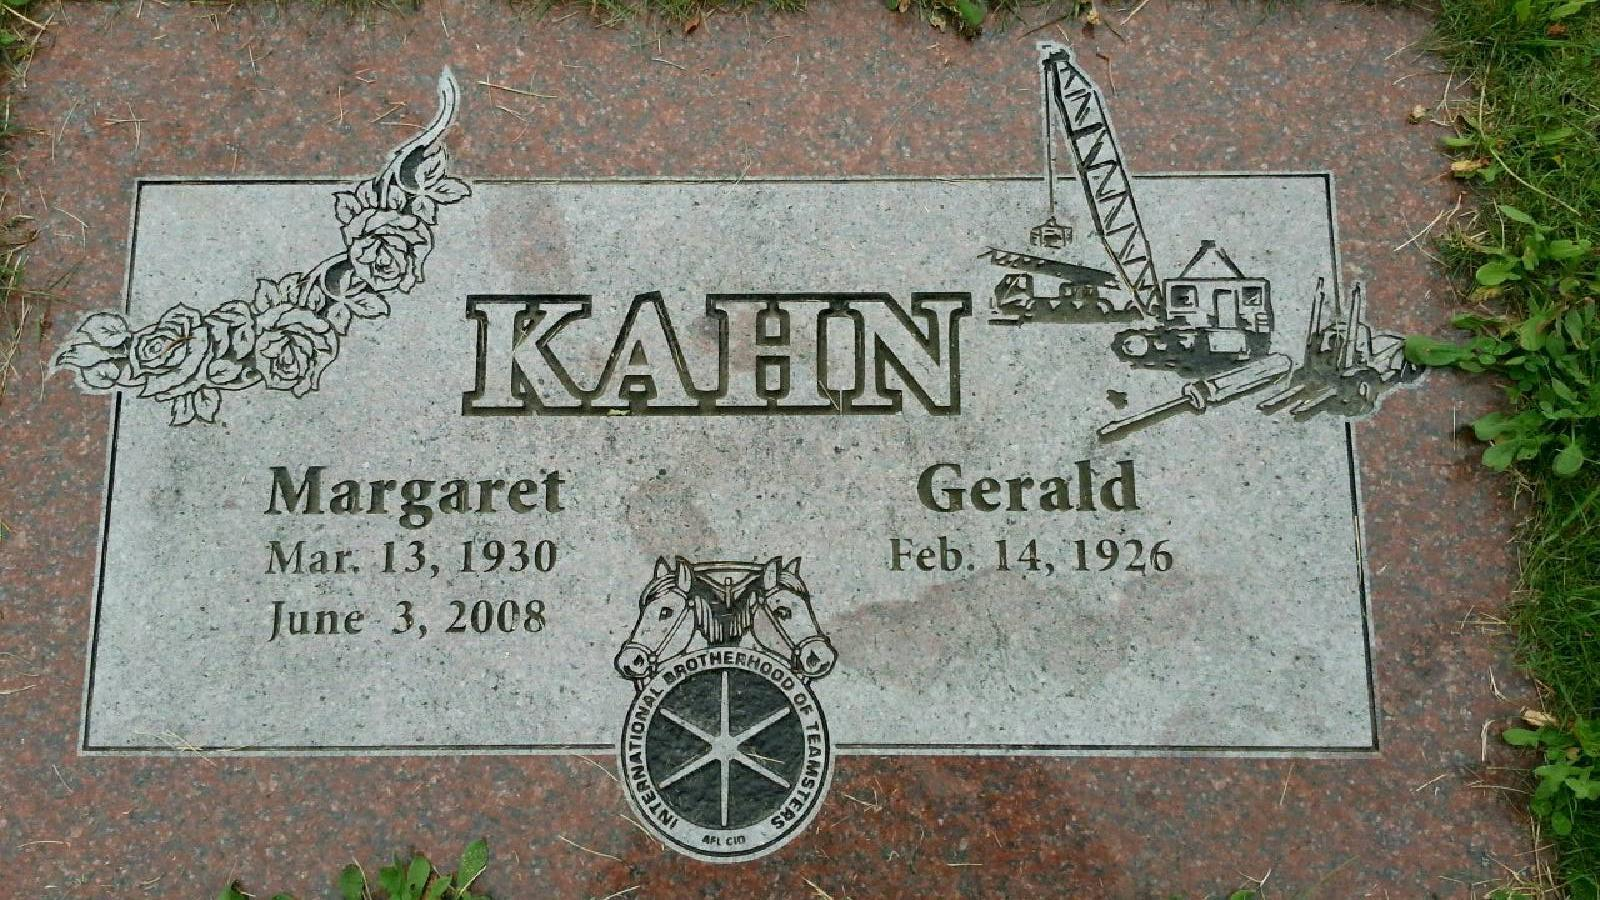flat: (0, 0, 1545, 900)
